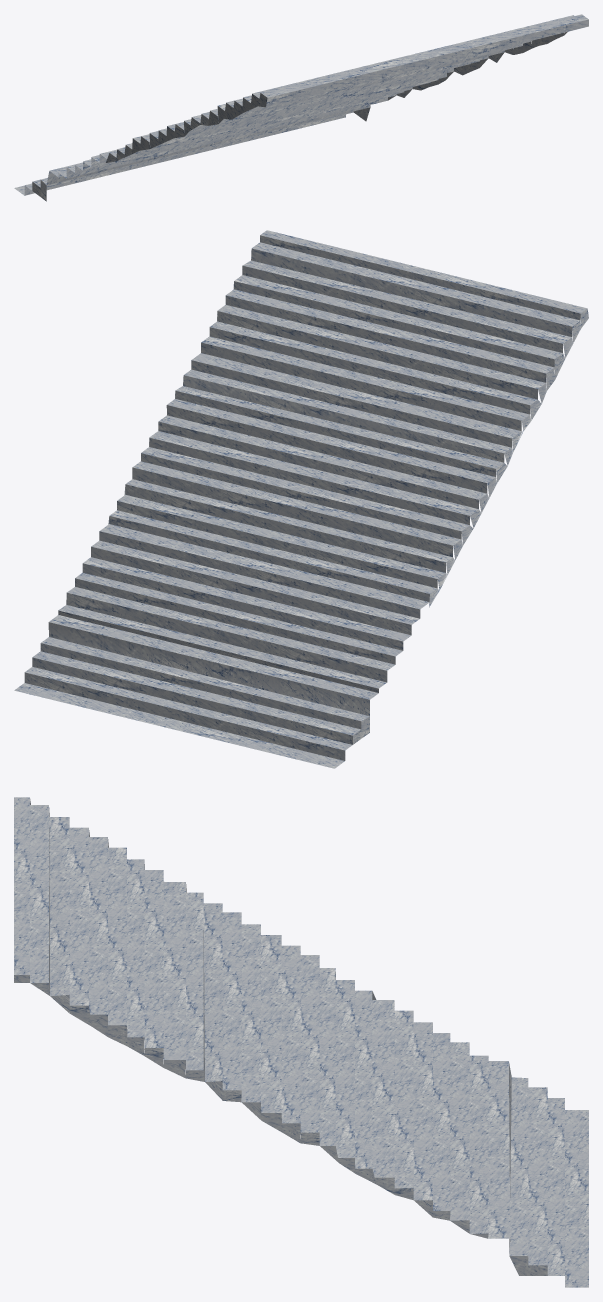
Rendered from stair 3.All files.obj.
3 renders of one model, top to bottom at view 1: azimuth 30°, elevation 25°; view 2: azimuth 150°, elevation 25°; view 3: azimuth 270°, elevation 25°, orthographic. The views are drawn at different scales.
Parts seen in each view (by area): view 1: MarbleStair; view 2: MarbleStair; view 3: MarbleStair.
Part boxes in pixels (box(x1,y1,x2,y2)): MarbleStair: box(14, 14, 588, 201); MarbleStair: box(14, 230, 588, 768); MarbleStair: box(14, 797, 588, 1287).
Bounding box in the file's own units: 6.31 × 5.15 × 8.58.
Materials: 1 (1 with a texture image).
